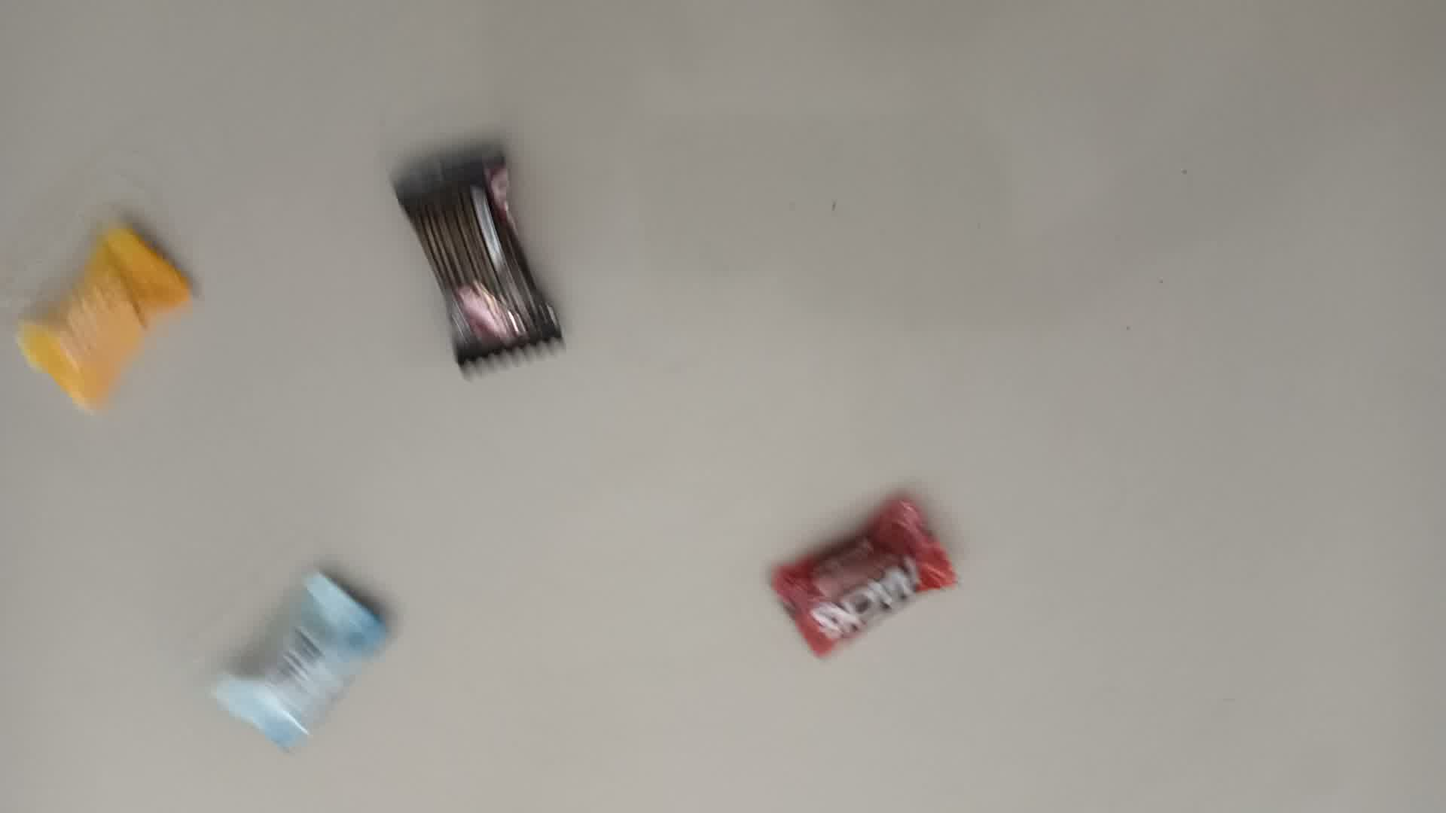HACK: (792, 499, 980, 682)
HALLS: (16, 227, 191, 392)
KOPIKO: (411, 148, 581, 382)
MYM: (230, 568, 404, 736)
